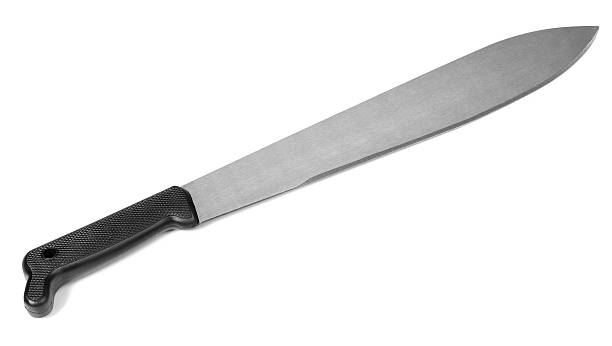knife: (20, 24, 603, 317)
